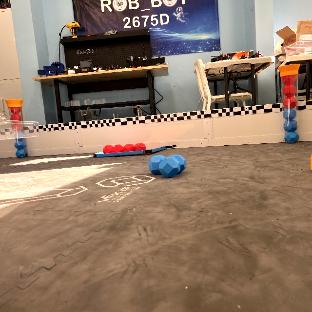V5_BLUE: (149, 154, 185, 177)
V5_RED: (103, 143, 146, 153)
